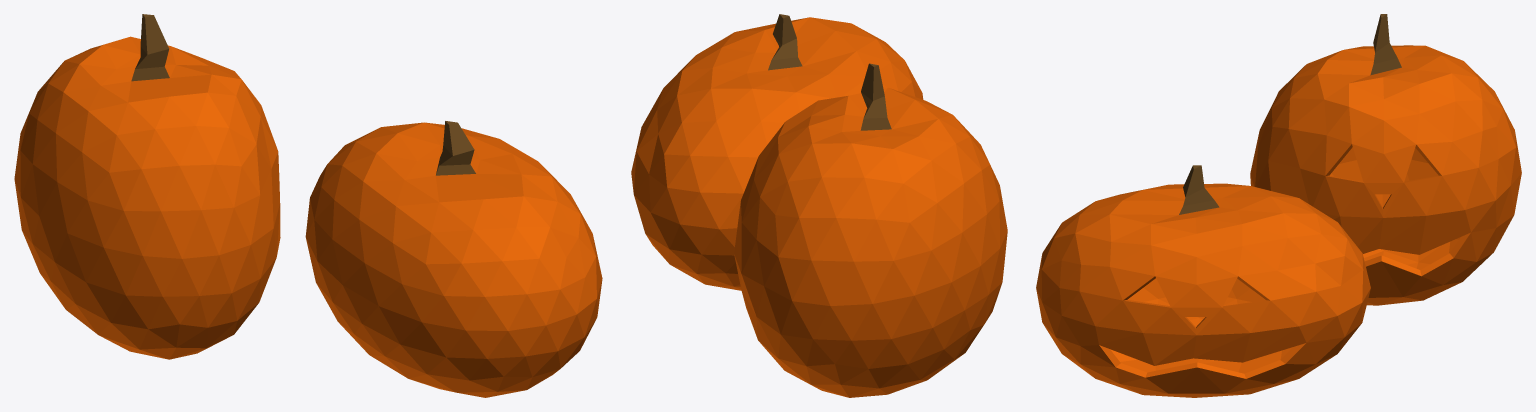
Rendered from Pumpkin.fbx.
The picture shows the model from 3 angles, left to right: view 1: azimuth 30°, elevation 25°; view 2: azimuth 150°, elevation 25°; view 3: azimuth 270°, elevation 25°; orthographic projection. The views are drawn at different scales.
Parts seen in each view (by area): view 1: Pumpkin Tall, Pumpkin Wide; view 2: Pumpkin Tall, Pumpkin Wide; view 3: Pumpkin Wide, Pumpkin Tall.
Boxes of the visible parts, left/top/right/bottom form: Pumpkin Tall: left=14, top=14, right=280, bottom=359; Pumpkin Wide: left=305, top=121, right=602, bottom=397; Pumpkin Tall: left=734, top=63, right=1007, bottom=397; Pumpkin Wide: left=631, top=14, right=923, bottom=290; Pumpkin Wide: left=1036, top=165, right=1370, bottom=397; Pumpkin Tall: left=1250, top=14, right=1521, bottom=305.
Bounding box in the file's own units: 418 × 306 × 479.
